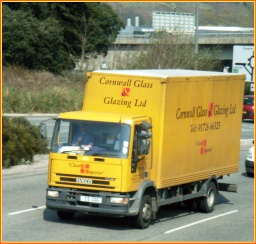truck: (44, 62, 248, 226)
